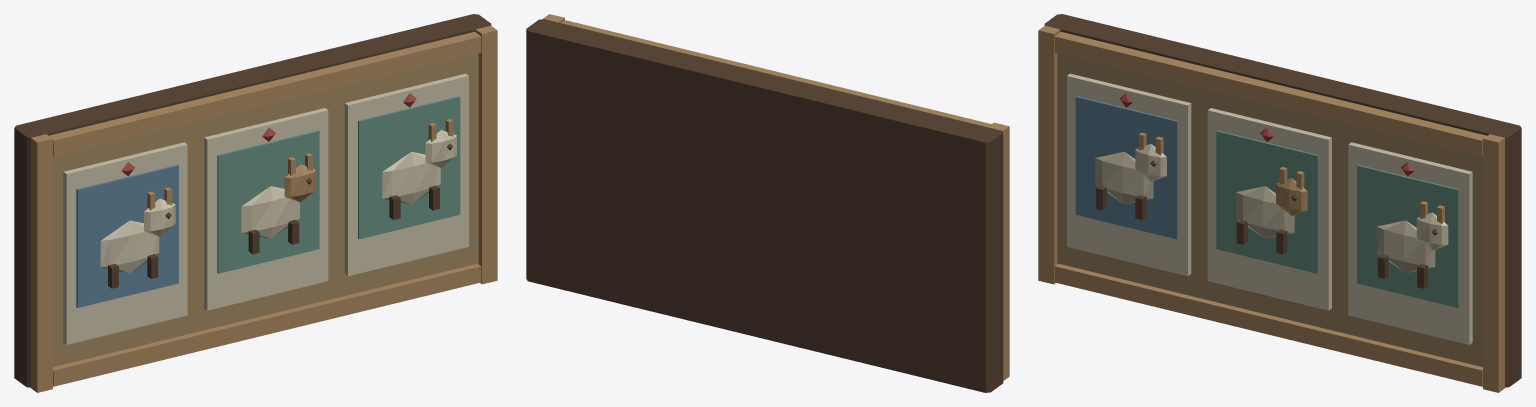
The model's file is board_animals.glb.
The picture shows the model from 3 angles, left to right: view 1: azimuth 30°, elevation 25°; view 2: azimuth 150°, elevation 25°; view 3: azimuth 330°, elevation 25°; orthographic projection.
Parts seen in each view (by area): view 1: geometry; view 2: geometry; view 3: geometry.
Boxes of the visible parts, x1,y1,x2,y2 form: geometry: (14, 14, 497, 392); geometry: (526, 14, 1009, 392); geometry: (1038, 14, 1521, 392).
Size of the model in its own units: 1.65 by 0.85 by 0.1976.
